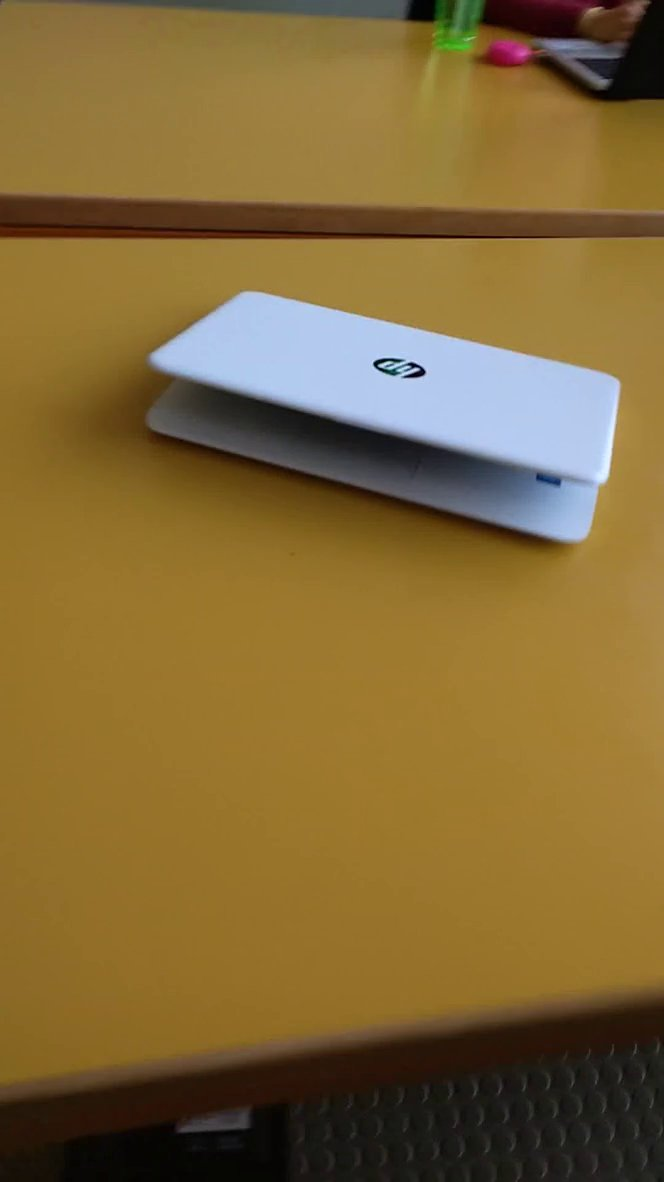laptop: (129, 273, 644, 572)
